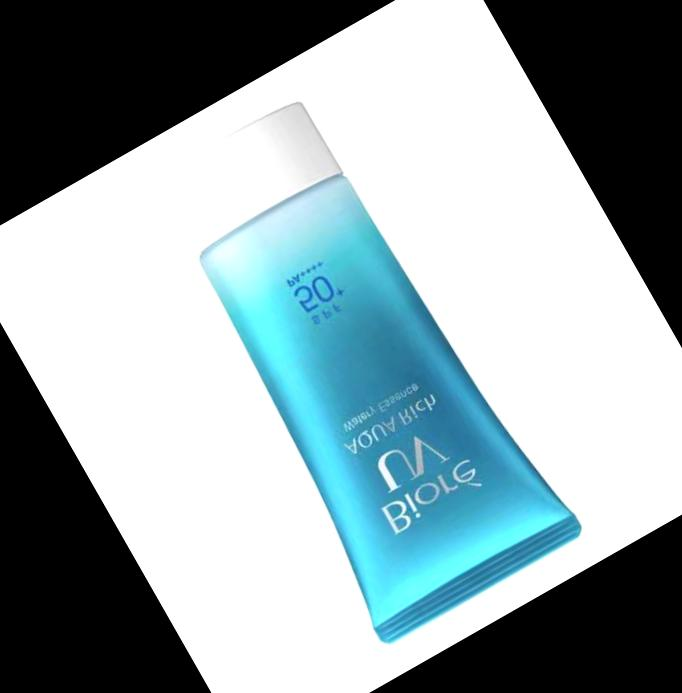cosmetic: (122, 77, 587, 650)
